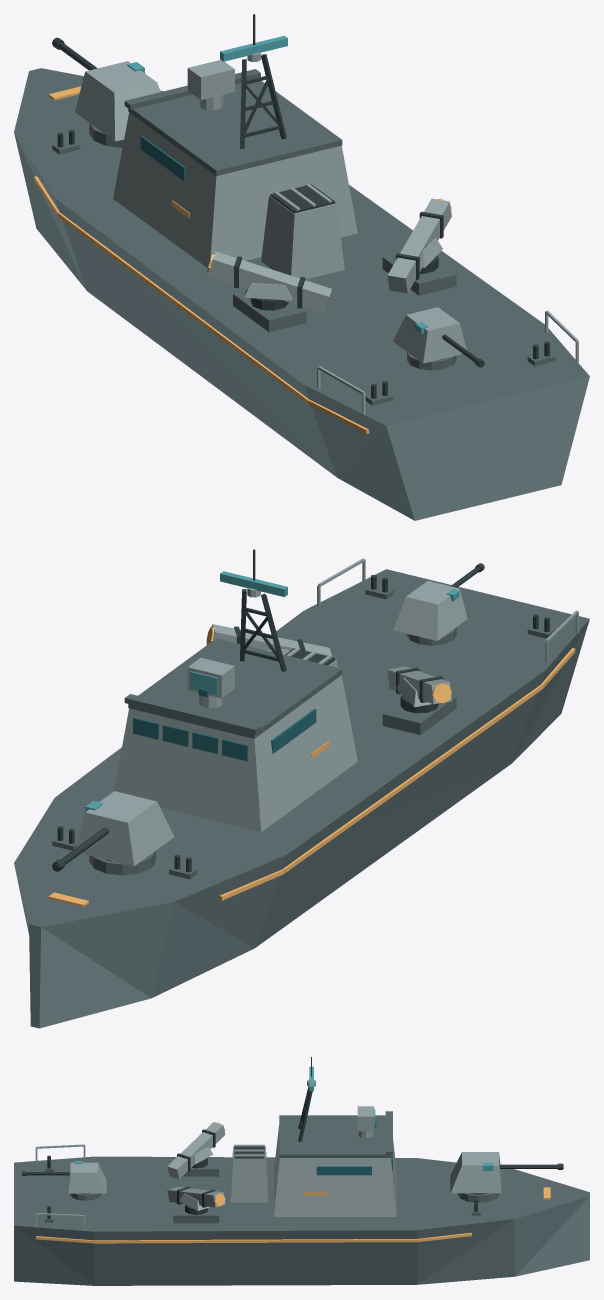
File: ESC_STK_T1.fbx
The picture shows the model from 3 angles, top to bottom: view 1: azimuth 30°, elevation 25°; view 2: azimuth 150°, elevation 25°; view 3: azimuth 270°, elevation 25°; orthographic projection. The views are drawn at different scales.
Parts seen in each view (by area): view 1: ContinuousHull.001, Deckhouse.001, Roof.001, FunnelEnclosure.001, PrimaryGunCupola.001, AftGunCupola.001, MissileBankPortTube1, MissileBankStarboardTube1, RoleHullStripe-1_1.001, FireControlHousing, MissileBankPortFoundation, MissileBankStarboardFoundation (+5 smaller); view 2: ContinuousHull.001, Deckhouse.001, Roof.001, PrimaryGunCupola.001, AftGunCupola.001, RoleHullStripe-1_1.001, BridgeBrow.001, MissileBankPortFoundation, MissileBankStarboardTube1, FireControlHousing, MissileBankPortTube1, PrimaryGunFoundation.001 (+2 smaller); view 3: ContinuousHull.001, Deckhouse.001, Roof.001, PrimaryGunCupola.001, FunnelEnclosure.001, RoleHullStripe1_1.001, AftGunCupola.001, MissileBankPortTube1, MissileBankStarboardFoundation, MissileBankStarboardTube1, BridgeSideGlass1.001, FireControlHousing (+4 smaller).
Boxes of the visible parts, x1,y1,x2,y2 form: ContinuousHull.001: (14, 68, 589, 520); Deckhouse.001: (113, 112, 357, 267); Roof.001: (128, 81, 342, 175); FunnelEnclosure.001: (261, 195, 344, 279); PrimaryGunCupola.001: (75, 61, 160, 141); AftGunCupola.001: (393, 307, 466, 363); MissileBankPortTube1: (207, 251, 331, 313); MissileBankStarboardTube1: (387, 198, 451, 293); RoleHullStripe-1_1.001: (57, 212, 308, 403); FireControlHousing: (187, 60, 234, 99); MissileBankPortFoundation: (233, 291, 306, 332); MissileBankStarboardFoundation: (382, 253, 456, 295); ContinuousHull.001: (14, 569, 589, 1028); Deckhouse.001: (114, 675, 357, 832); Roof.001: (128, 638, 342, 738); PrimaryGunCupola.001: (76, 791, 174, 866); AftGunCupola.001: (393, 581, 467, 640); RoleHullStripe-1_1.001: (282, 685, 542, 873); BridgeBrow.001: (124, 694, 260, 734); MissileBankPortFoundation: (382, 695, 456, 734); MissileBankStarboardTube1: (211, 624, 331, 656); FireControlHousing: (187, 657, 234, 698); MissileBankPortTube1: (387, 666, 451, 704); PrimaryGunFoundation.001: (89, 851, 155, 875); ContinuousHull.001: (14, 1156, 589, 1285); Deckhouse.001: (274, 1125, 396, 1216); Roof.001: (279, 1115, 391, 1157); PrimaryGunCupola.001: (450, 1152, 501, 1193); FunnelEnclosure.001: (230, 1146, 268, 1202); RoleHullStripe1_1.001: (94, 1239, 417, 1243); AftGunCupola.001: (68, 1162, 106, 1193); MissileBankPortTube1: (167, 1122, 225, 1178); MissileBankStarboardFoundation: (173, 1204, 219, 1223); MissileBankStarboardTube1: (167, 1186, 225, 1207); BridgeSideGlass1.001: (316, 1166, 371, 1175); FireControlHousing: (357, 1106, 374, 1131).
Bounding box in the file's own units: 281 × 348 × 900.
